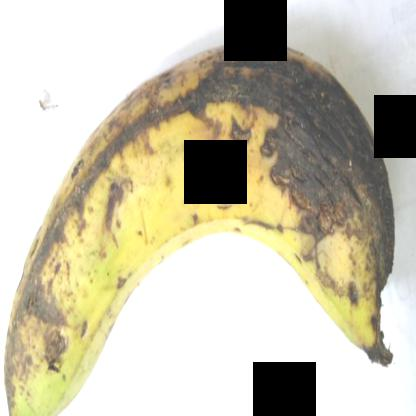rotten: (0, 24, 401, 415)
